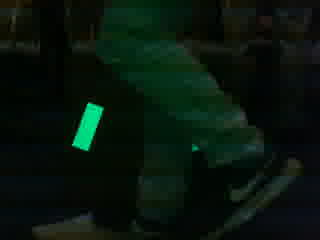target: (72, 99, 212, 155)
